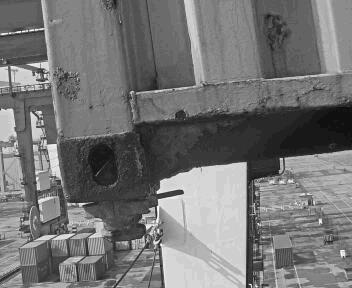twist_lock_1: (114, 189, 202, 246)
